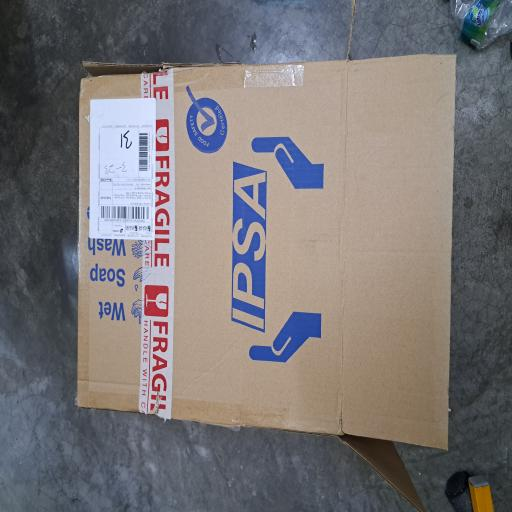cardboard: (13, 90, 351, 512)
